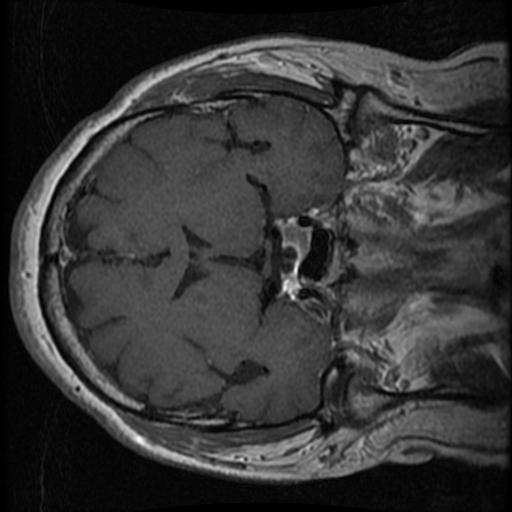pituitary tumour: (280, 217, 309, 256)
